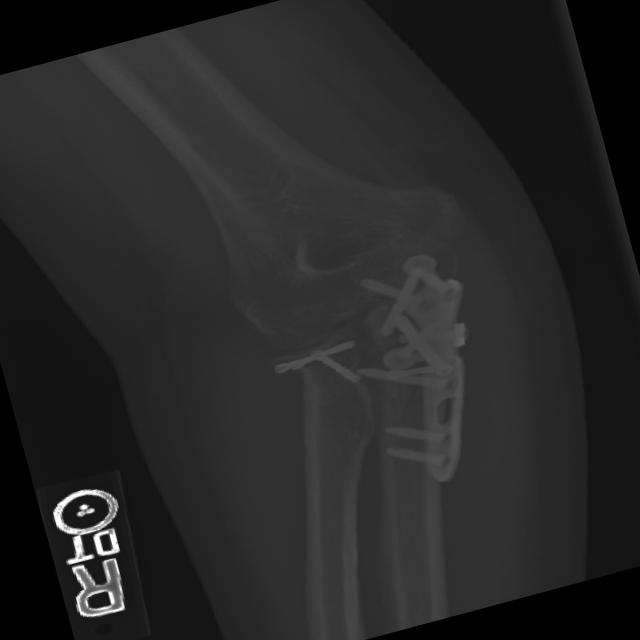elbow positive: (334, 129, 517, 233), (359, 380, 437, 434)
